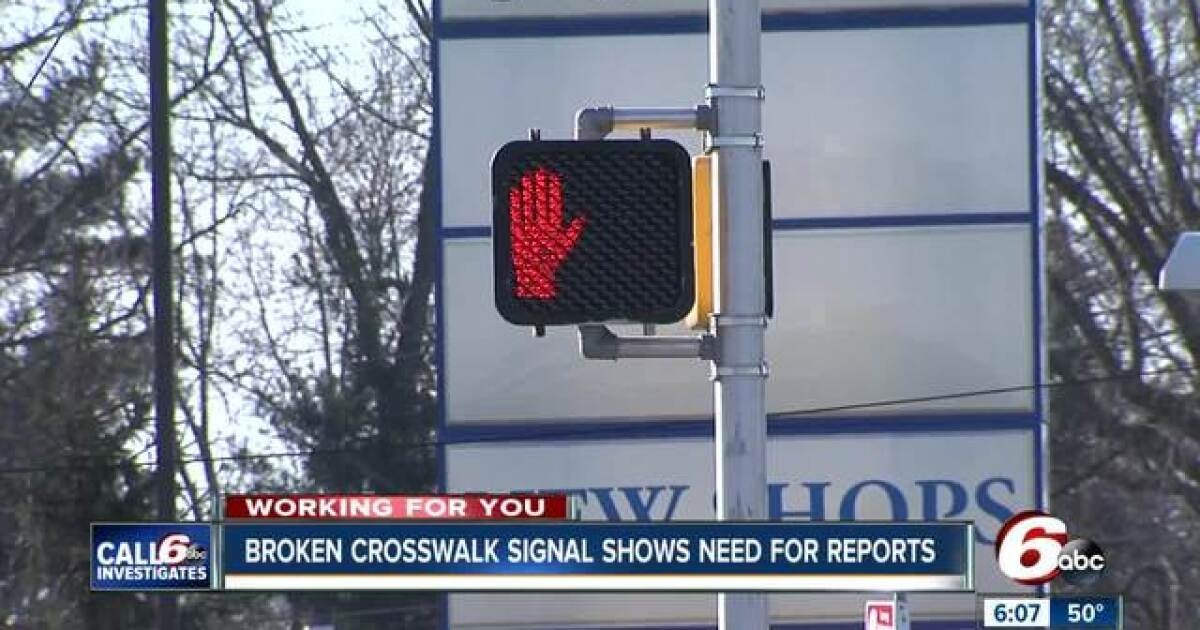pedestrian_stop: (495, 137, 698, 318)
